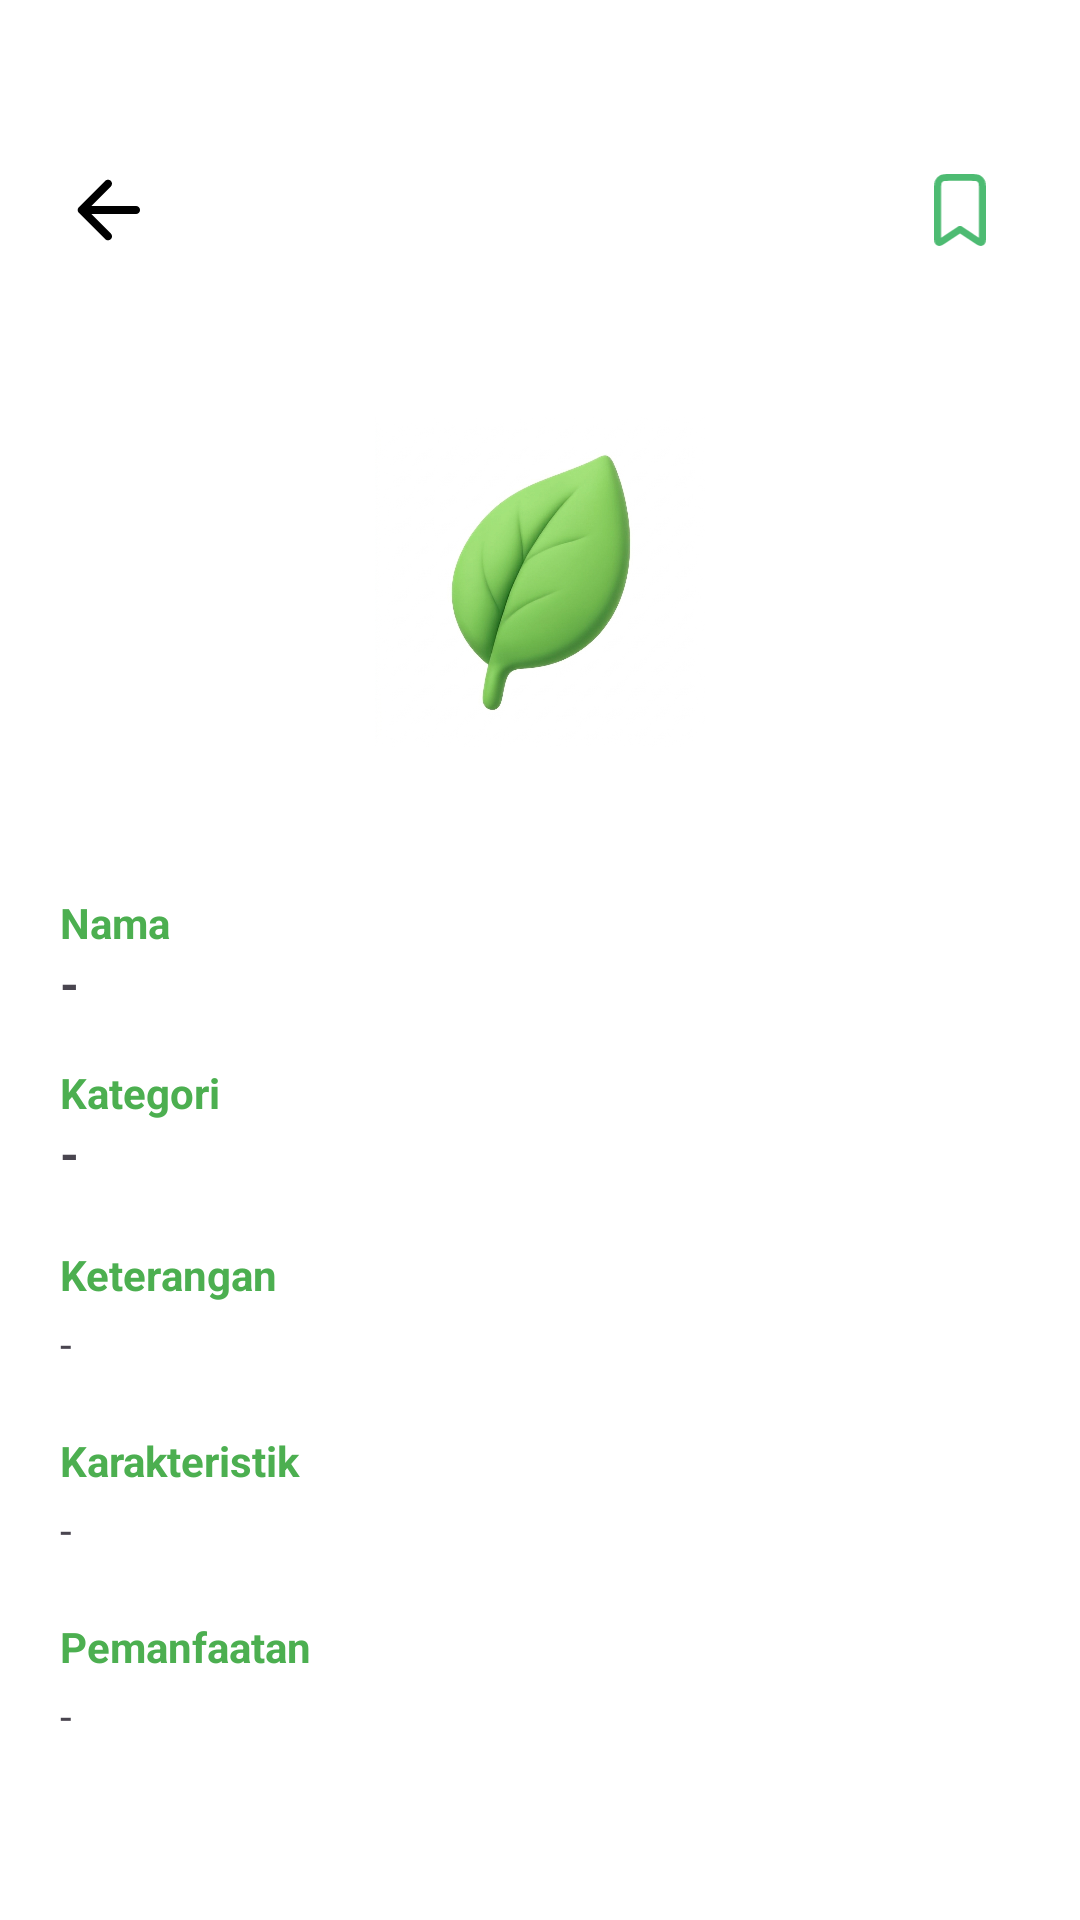

Screen size 1080w x 1920h. Icon name, then its center in pixels as (x,y):
Kembali: (108,210)
Simpan: (960,210)
